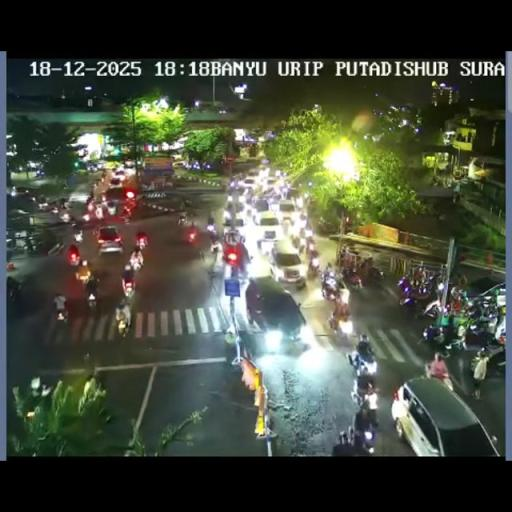Car: (392, 375, 501, 455), (246, 277, 308, 346), (228, 164, 290, 214), (268, 240, 305, 286), (462, 280, 504, 318), (141, 191, 187, 216), (253, 210, 281, 246), (96, 224, 123, 254), (66, 187, 92, 214), (104, 184, 130, 207), (226, 210, 244, 234), (278, 200, 296, 223), (224, 195, 237, 215), (242, 176, 259, 191), (10, 186, 31, 198), (264, 177, 280, 190), (114, 169, 126, 181), (247, 168, 260, 178), (172, 160, 188, 167), (124, 160, 134, 168)
Motorcycle: (54, 262, 130, 328), (422, 317, 464, 351), (350, 378, 378, 414), (352, 335, 377, 374), (330, 306, 355, 342), (179, 213, 204, 249), (484, 340, 507, 377), (424, 363, 454, 391), (332, 428, 362, 456), (462, 325, 490, 353), (415, 270, 441, 298), (222, 333, 241, 369), (321, 271, 341, 302), (398, 288, 420, 316), (341, 264, 363, 290), (359, 419, 376, 452), (86, 198, 110, 220), (6, 276, 24, 303), (449, 282, 469, 306), (421, 298, 442, 320), (364, 264, 383, 287), (492, 311, 506, 342), (234, 258, 250, 285), (23, 236, 46, 254), (116, 310, 131, 337), (316, 216, 338, 234), (306, 255, 320, 278), (450, 266, 466, 286), (54, 301, 68, 323), (74, 266, 90, 284), (122, 274, 135, 296), (86, 288, 98, 310), (68, 244, 80, 266), (130, 254, 144, 272), (210, 237, 222, 257), (290, 230, 301, 249), (342, 216, 353, 234), (304, 232, 314, 251), (58, 209, 72, 222), (137, 236, 148, 251), (121, 204, 132, 218), (206, 223, 216, 238), (280, 184, 290, 199), (70, 214, 80, 228), (73, 229, 83, 242), (298, 226, 306, 242), (176, 214, 186, 226), (37, 201, 49, 211), (91, 226, 99, 240), (50, 204, 60, 214), (82, 211, 90, 222), (304, 192, 310, 206), (183, 198, 192, 207)
